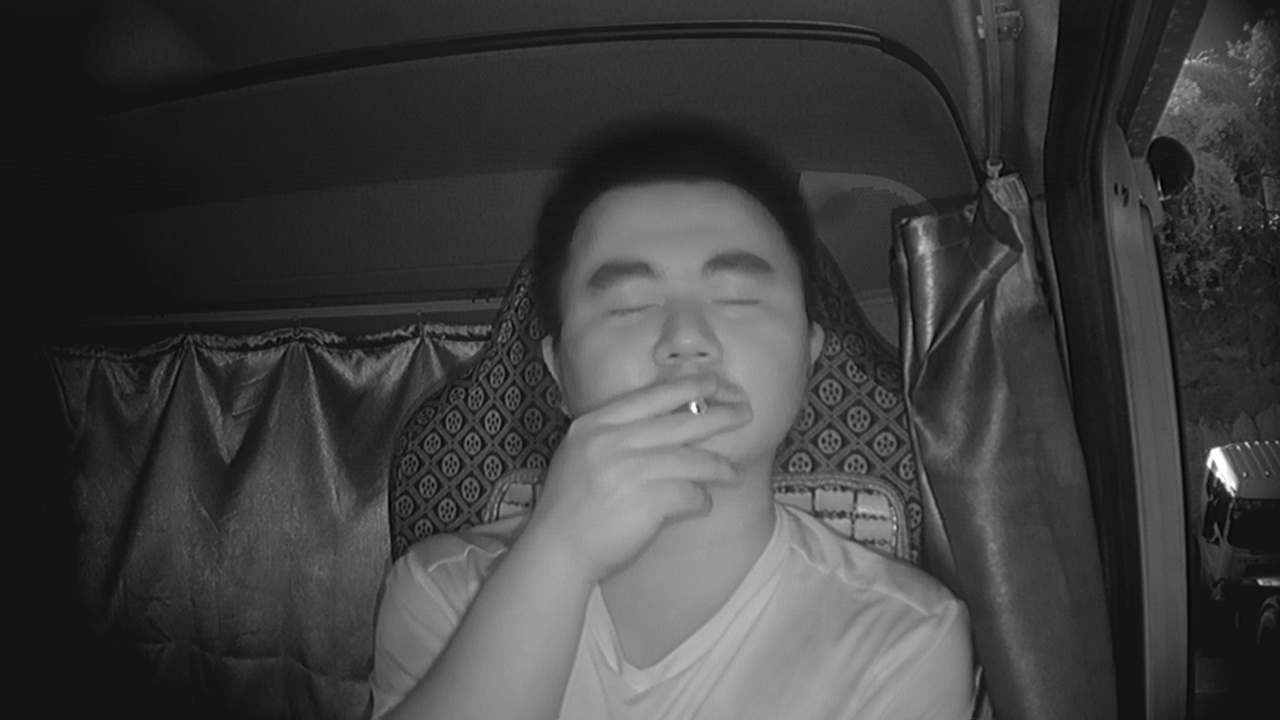hand: (561, 369, 742, 530)
